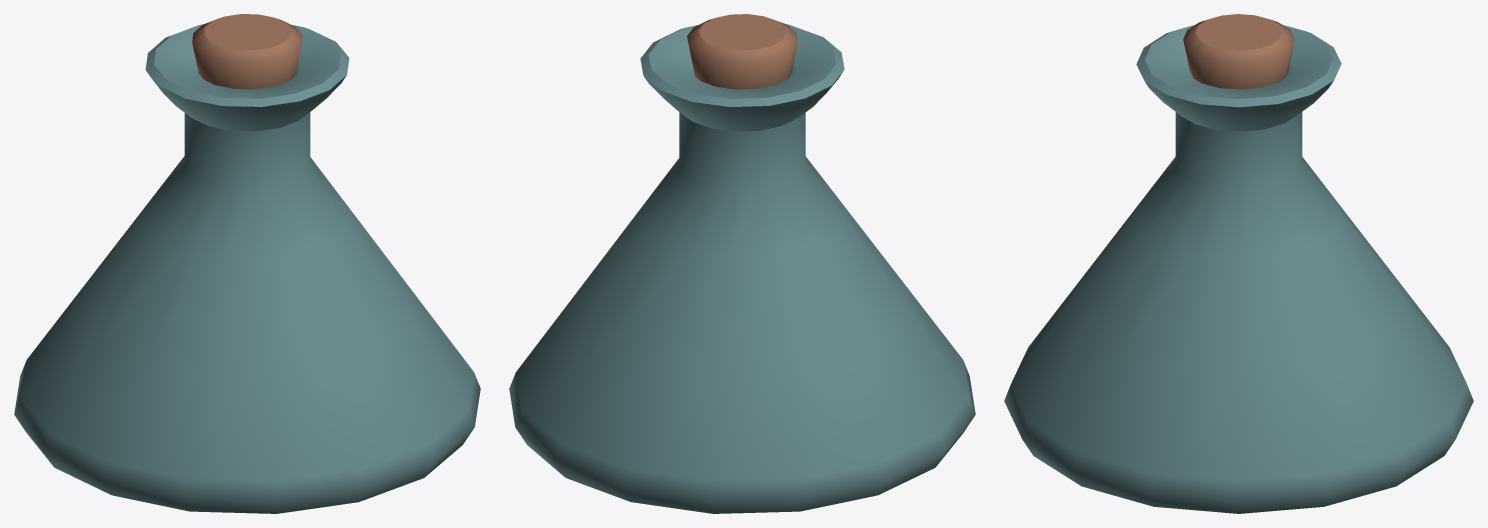
The model's file is SE_105_flask.glb.
The picture shows the model from 3 angles, left to right: view 1: azimuth 30°, elevation 25°; view 2: azimuth 150°, elevation 25°; view 3: azimuth 270°, elevation 25°; orthographic projection.
Parts seen in each view (by area): view 1: bottle; view 2: bottle; view 3: bottle.
Part boxes in pixels (bbox=[...]): bottle: bbox=[14, 14, 480, 513]; bottle: bbox=[509, 14, 975, 513]; bottle: bbox=[1004, 14, 1473, 513].
Size of the model in its own units: 0.4055 by 0.3692 by 0.4055.
